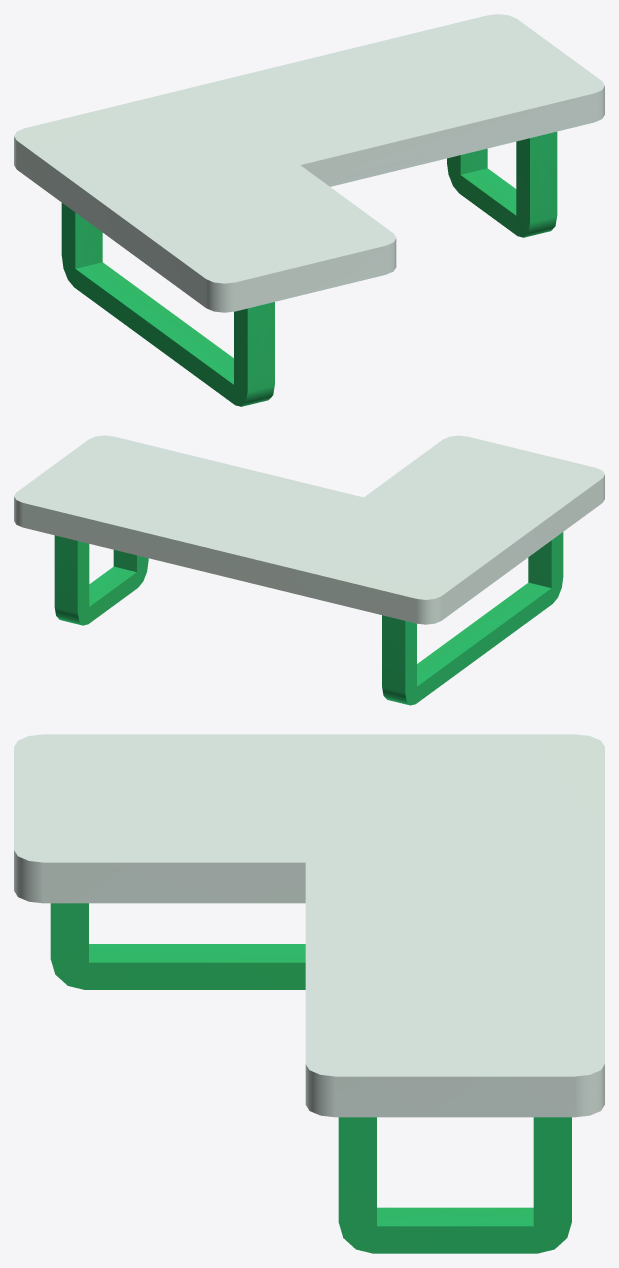
Rendered from Table2.fbx.
3 views of the same model, one above another, from view 1: azimuth 30°, elevation 25°; view 2: azimuth 150°, elevation 25°; view 3: azimuth 270°, elevation 25° (orthographic). The views are drawn at different scales.
Visible parts, largest first — view 1: Table_2; view 2: Table_2; view 3: Table_2.
Boxes of the visible parts, <box> form: Table_2: <box>14,14,604,406</box>; Table_2: <box>14,435,604,705</box>; Table_2: <box>14,734,604,1253</box>.
Bounding box in the file's own units: 436 × 123 × 318.
